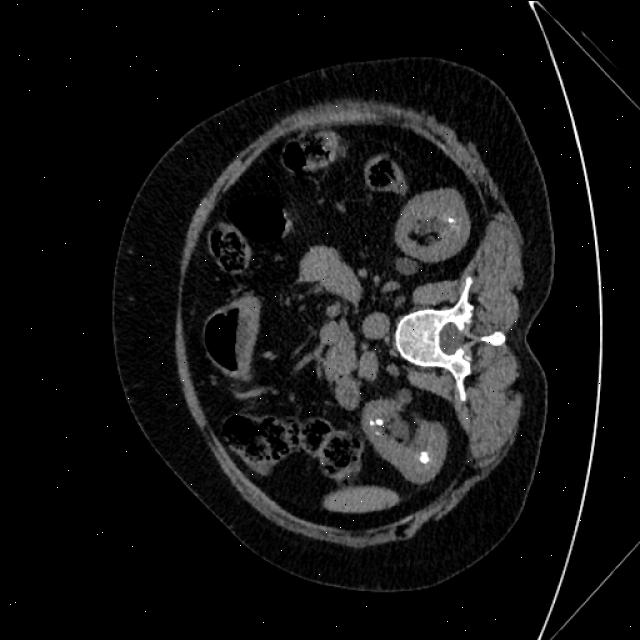kidneystone: (419, 450, 429, 462)
